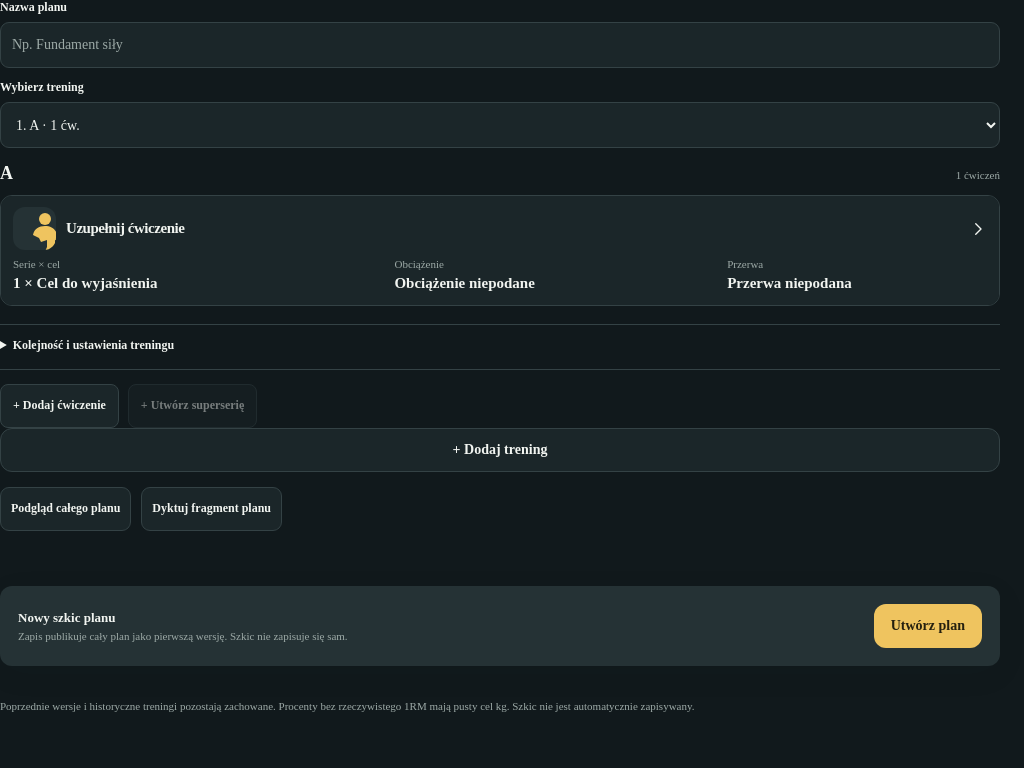
podyktowany plan jest widocznym szkicem i nie publikuje się sam
The width and height of the screenshot is (1024, 768).
Click the button "Dyktuj fragment planu" at (212, 509), box [141,487,282,531]
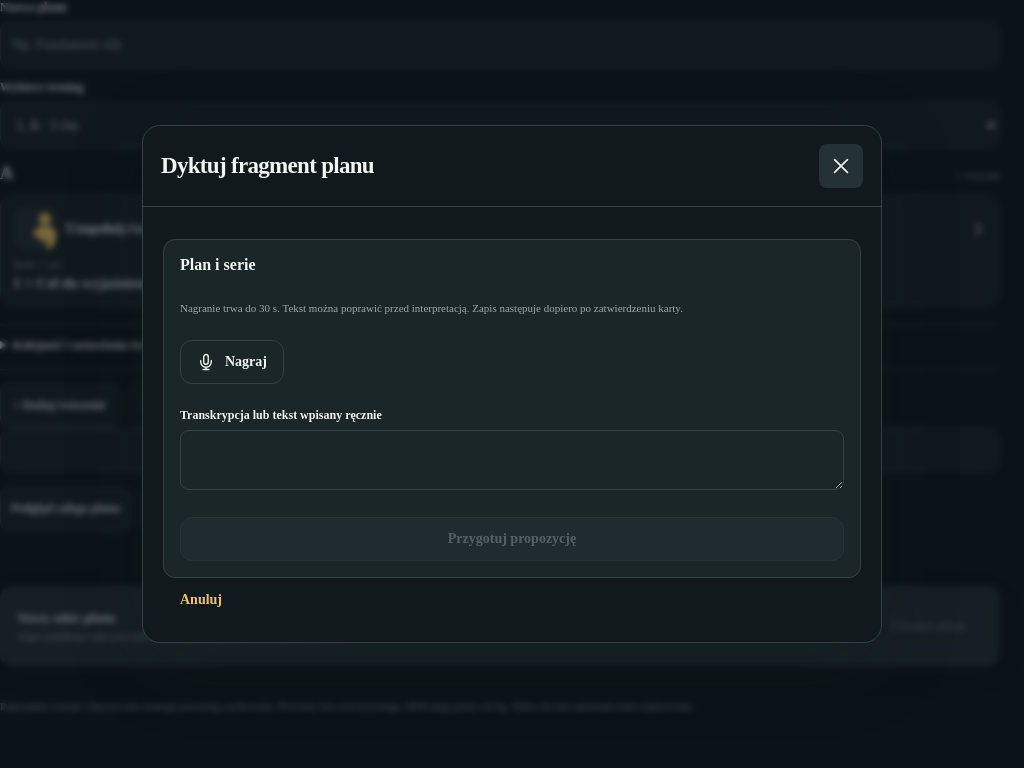
Type "A przysiad sześć na 75 procent maksa" into the text box labelled "Transkrypcja lub tekst wpisany ręcznie" at (512, 460), box [180,430,844,490]
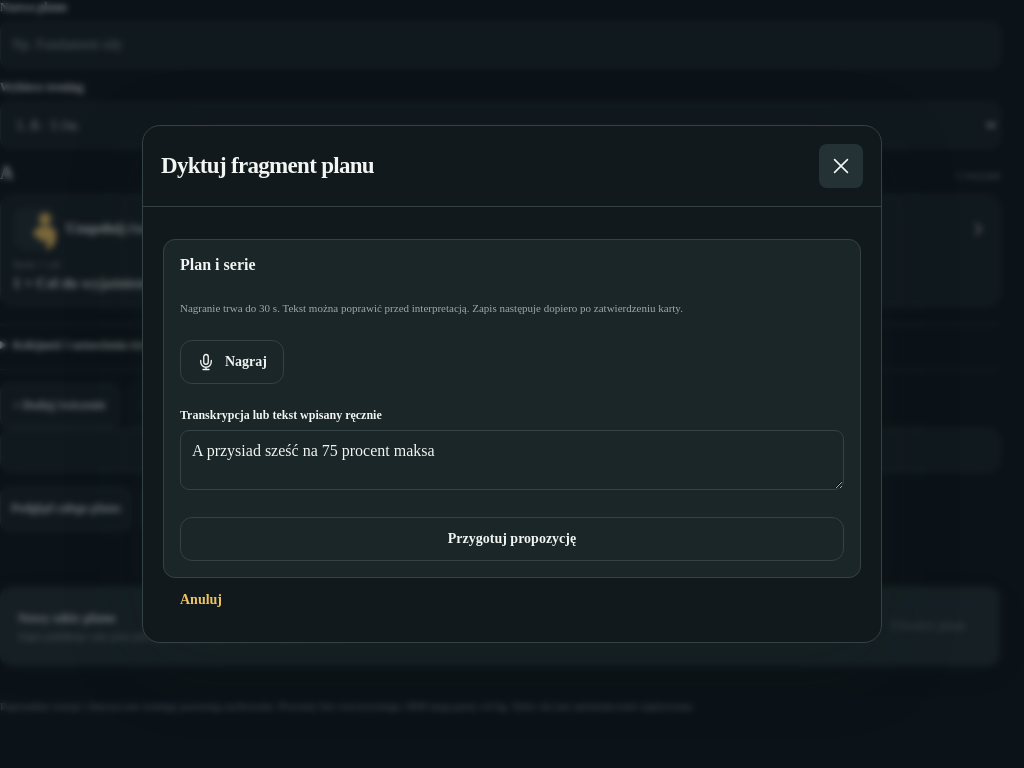
Click the button "Przygotuj propozycję" at (512, 539), box [180,517,844,561]
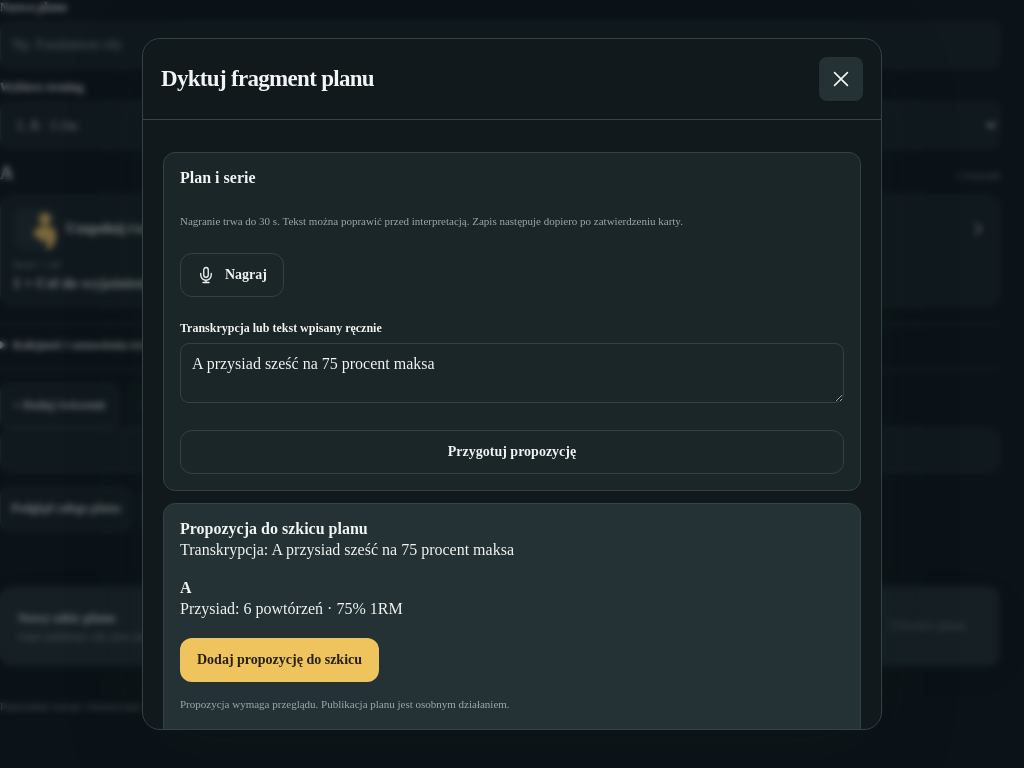
Check: the text "Przysiad: 6 powtórzeń · 75% 1RM" is shown, box [180,600,403,617]
Click the button "Dodaj propozycję do szkicu" at (280, 660), box [180,638,379,682]
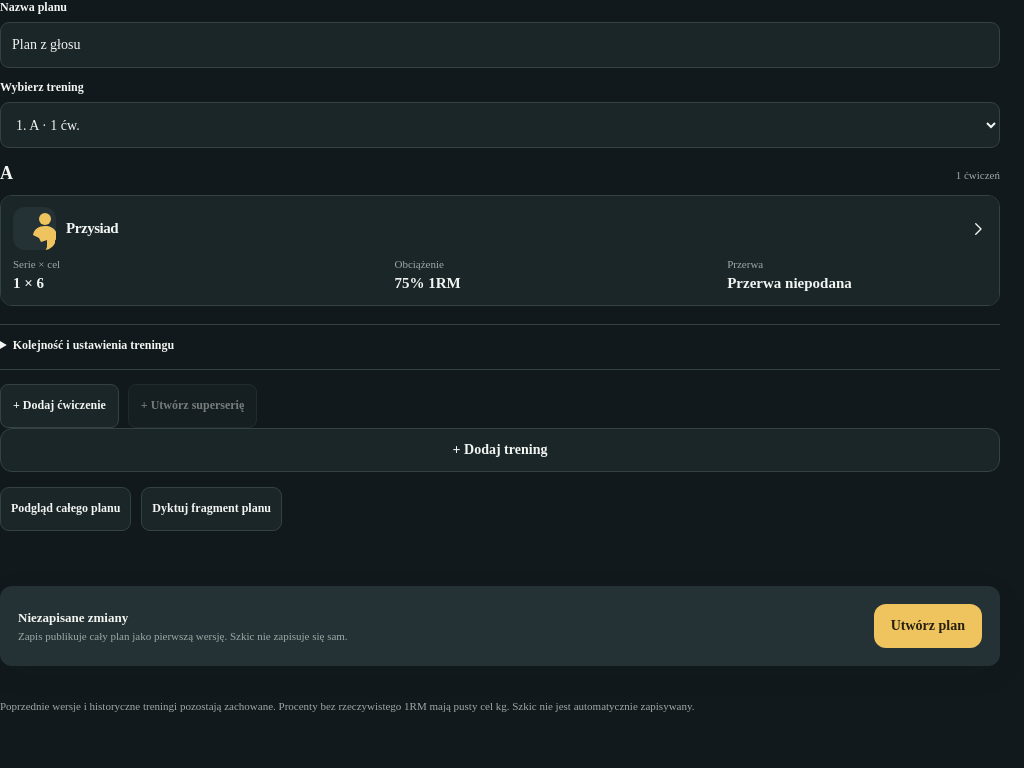
Check: the field labelled "Nazwa planu" holds "Plan z głosu", box [0,22,1000,68]
